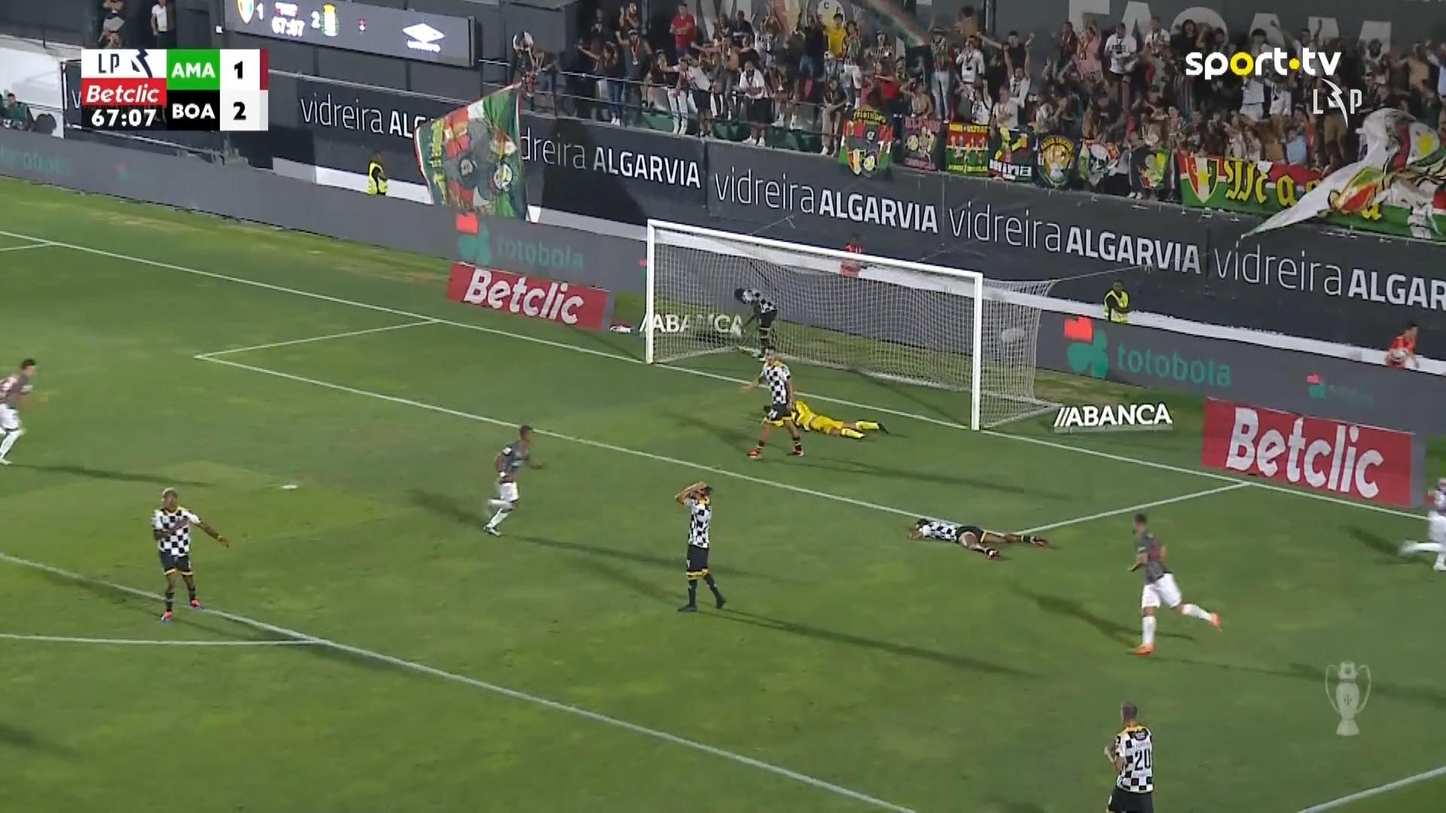ball: (1387, 348, 1408, 364)
goalkeeper: (787, 398, 889, 440)
player: (1125, 511, 1222, 655), (150, 486, 229, 623), (740, 346, 804, 459), (673, 480, 727, 612), (481, 424, 544, 537), (906, 516, 1048, 560), (1103, 702, 1155, 811), (1397, 476, 1444, 571), (0, 357, 38, 465), (734, 285, 778, 360)
